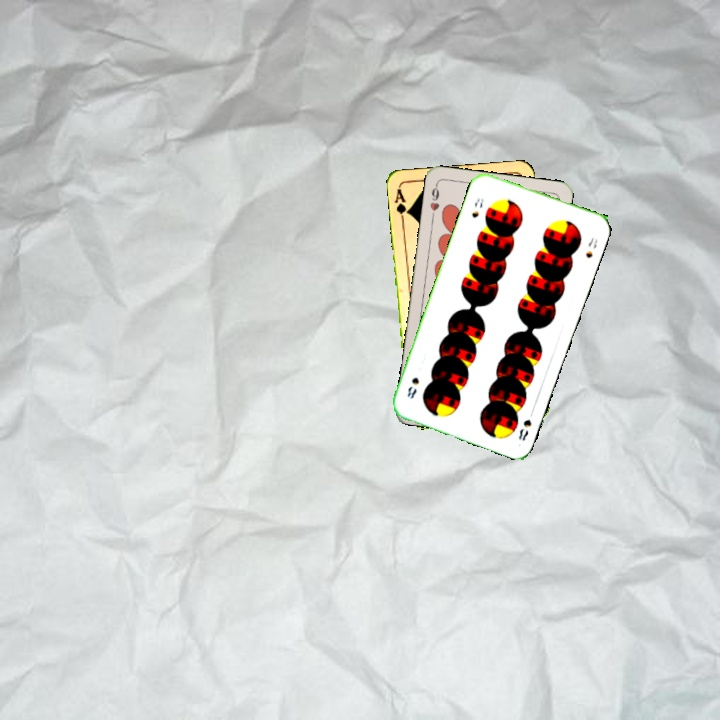GA: (391, 185, 412, 225)
H9: (426, 180, 442, 221)
S8: (514, 405, 537, 443), (468, 194, 486, 220)
